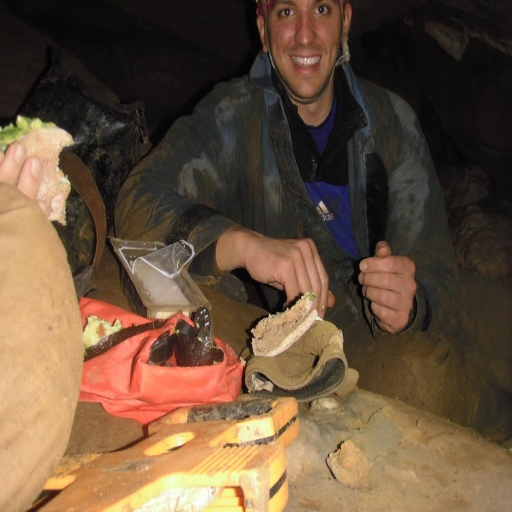hand: (244, 235, 336, 323), (348, 241, 423, 330), (0, 138, 49, 216)
